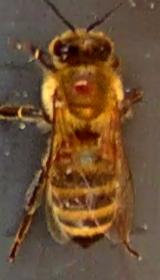varroa_mite: (65, 74, 101, 97)
